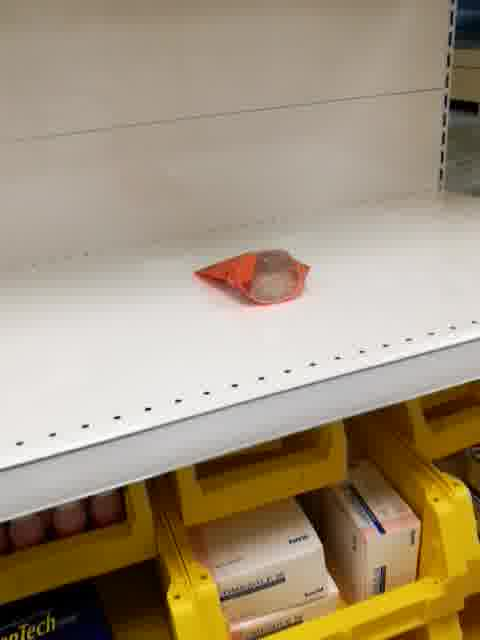whitechia: (190, 247, 312, 306)
